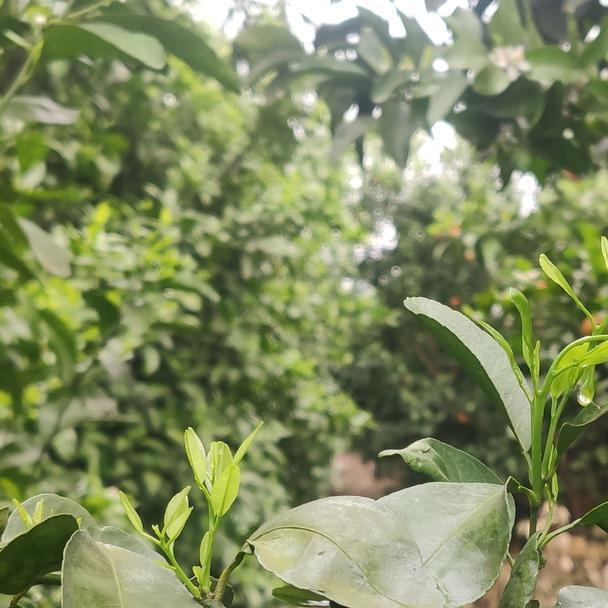shoot: (184, 425, 266, 557), (125, 485, 189, 561)
